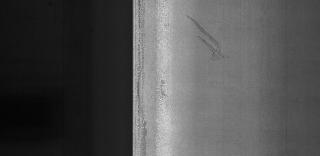water spot: (182, 10, 232, 66)
